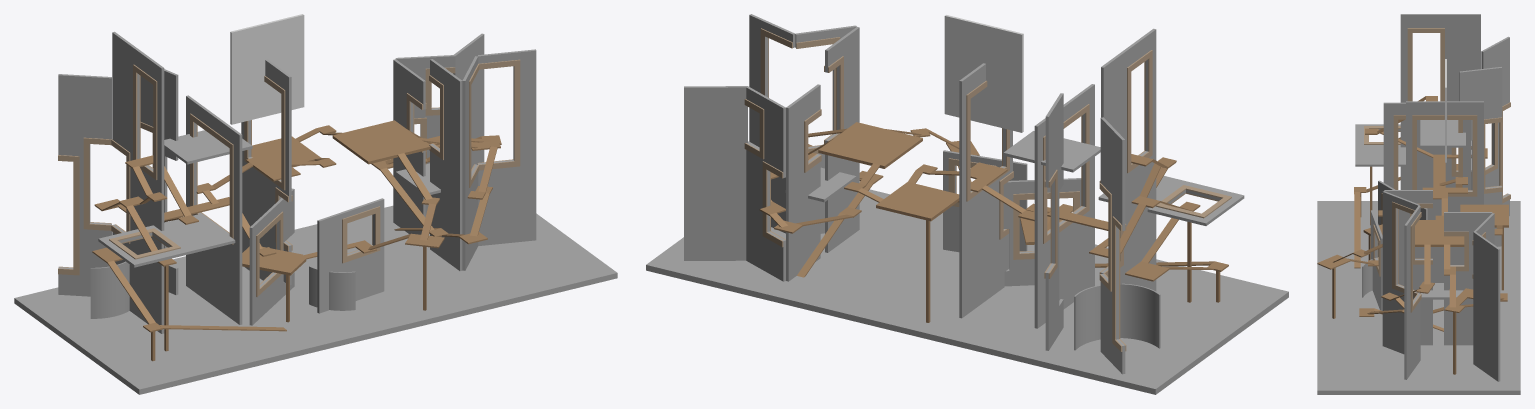
Rendered from 10_PIN.glb.
3 views of the same model, side by side, from view 1: azimuth 30°, elevation 25°; view 2: azimuth 150°, elevation 25°; view 3: azimuth 270°, elevation 25° (orthographic). The views are drawn at different scales.
Parts seen in each view (by area): view 1: 01 DIZUO, 06 KAO, 09 YA, 02 JIE, 03 DING, 07 XUAN, 10 PIN, 08 CHUI, 05AN, 04 ZHUAN; view 2: 01 DIZUO, 06 KAO, 09 YA, 05AN, 03 DING, 07 XUAN, 04 ZHUAN, 02 JIE, 08 CHUI, 10 PIN; view 3: 01 DIZUO, 06 KAO, 03 DING, 02 JIE, 09 YA, 05AN, 07 XUAN, 10 PIN, 04 ZHUAN, 08 CHUI.
Boxes of the visible parts, x1,y1,x2,y2 form: 01 DIZUO: (14, 120, 617, 394); 06 KAO: (58, 31, 235, 333); 09 YA: (230, 14, 304, 285); 02 JIE: (462, 49, 536, 270); 03 DING: (393, 59, 462, 270); 07 XUAN: (164, 95, 252, 324); 10 PIN: (309, 198, 384, 313); 08 CHUI: (249, 188, 294, 325); 05AN: (453, 33, 484, 168); 04 ZHUAN: (395, 55, 455, 215); 01 DIZUO: (646, 122, 1288, 394); 06 KAO: (1044, 28, 1244, 374); 09 YA: (944, 15, 1023, 318); 05AN: (684, 86, 747, 260); 03 DING: (785, 27, 859, 281); 07 XUAN: (1003, 84, 1100, 328); 04 ZHUAN: (744, 86, 785, 281); 02 JIE: (749, 14, 856, 233); 08 CHUI: (1003, 178, 1081, 286); 10 PIN: (943, 150, 1027, 252); 01 DIZUO: (1317, 96, 1520, 394); 06 KAO: (1355, 14, 1510, 246); 03 DING: (1384, 190, 1492, 345); 02 JIE: (1382, 191, 1421, 379); 09 YA: (1406, 59, 1483, 282); 05AN: (1473, 232, 1500, 381); 07 XUAN: (1383, 102, 1471, 190); 10 PIN: (1362, 210, 1382, 310); 04 ZHUAN: (1472, 213, 1494, 278); 08 CHUI: (1378, 180, 1427, 256).
Size of the model in its own units: 9.23 by 5 by 4.18.
